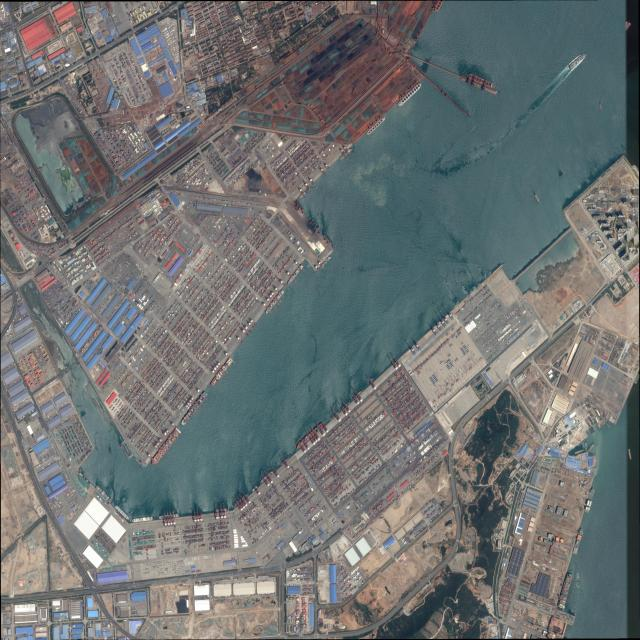ship: (150, 427, 181, 466), (180, 391, 208, 427), (295, 422, 325, 451), (210, 358, 233, 387), (397, 82, 422, 107), (557, 572, 573, 609), (264, 289, 285, 315), (466, 72, 496, 90), (366, 116, 386, 136), (287, 264, 304, 286), (95, 484, 112, 504), (584, 487, 596, 513), (569, 52, 587, 69), (573, 527, 584, 554), (114, 505, 130, 521), (233, 493, 249, 509), (260, 469, 275, 484), (308, 216, 321, 231), (340, 148, 352, 161), (132, 516, 153, 523), (298, 188, 310, 200), (320, 256, 331, 269), (134, 457, 145, 468), (159, 513, 179, 519), (352, 390, 363, 400), (330, 411, 340, 421), (341, 401, 351, 411), (323, 234, 332, 245), (281, 457, 289, 466), (296, 202, 304, 211), (574, 449, 584, 455), (215, 508, 229, 512), (634, 374, 639, 385), (535, 195, 541, 204), (588, 444, 594, 452), (628, 449, 632, 460), (252, 485, 258, 492), (585, 442, 587, 451), (600, 103, 602, 111), (472, 285, 476, 289), (469, 290, 473, 294), (465, 290, 469, 294), (462, 285, 465, 290), (477, 283, 481, 286), (463, 291, 466, 295), (473, 287, 476, 290)
